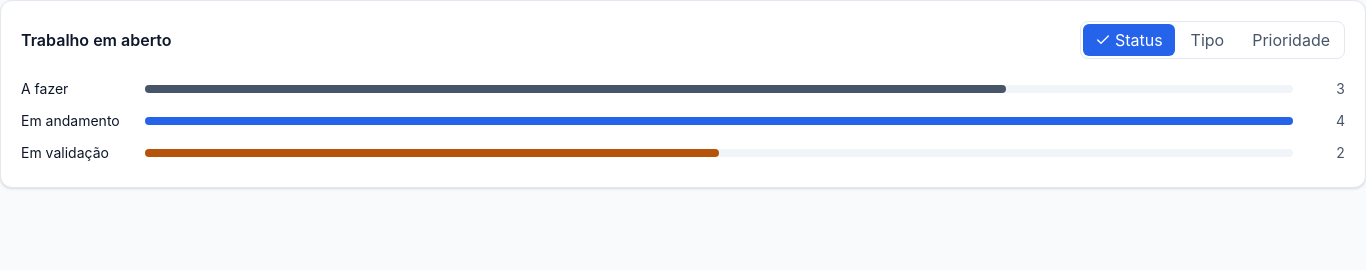
Test case: DistribuicaoDoTrabalho › deve mostrar as quantidades de cada prioridade, com sem prioridade, quando Prioridade é escolhida
This screenshot has width=1366, height=270.
Click the radio button labelled "Prioridade" at (1291, 40), box [1240, 24, 1342, 56]
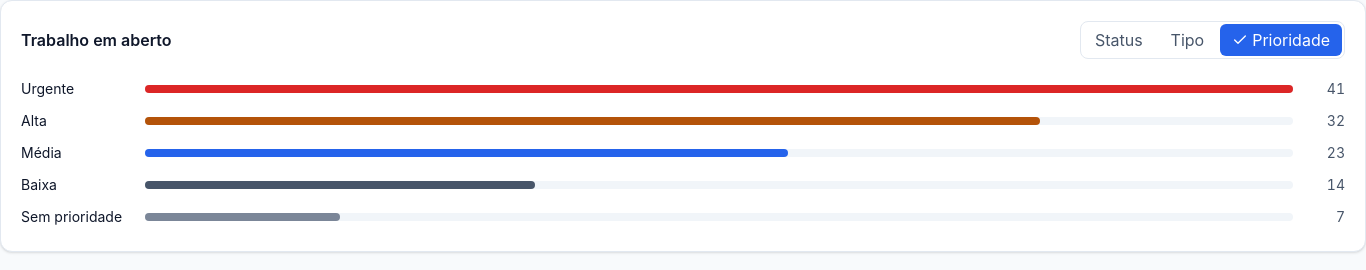
Expected: the list items read "Urgente41", "Alta32", "Média23", "Baixa14", "Sem prioridade7", in this order, [21, 75, 1345, 103]; [21, 107, 1345, 135]; [21, 139, 1345, 167]; [21, 171, 1345, 199]; [21, 203, 1345, 231]
